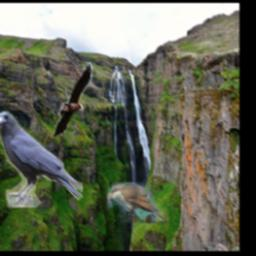Crow: (0, 111, 83, 208), (54, 62, 93, 138)
Cuckoo: (108, 182, 169, 223)
